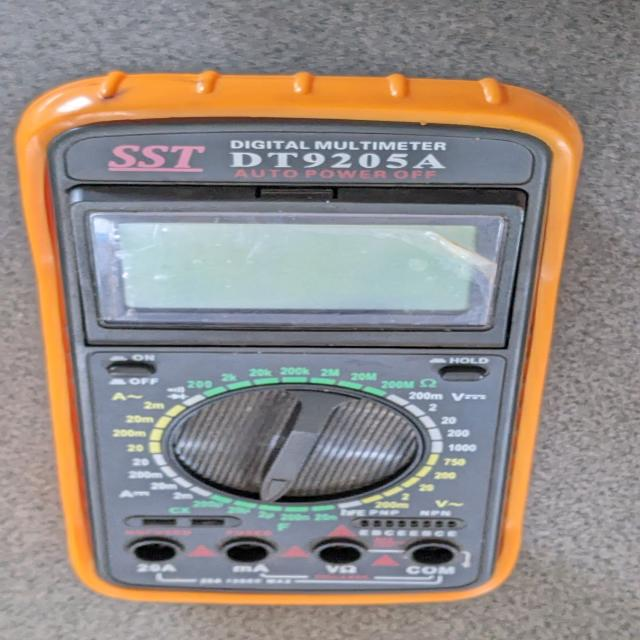Digital Multimeter: (10, 65, 584, 618)
